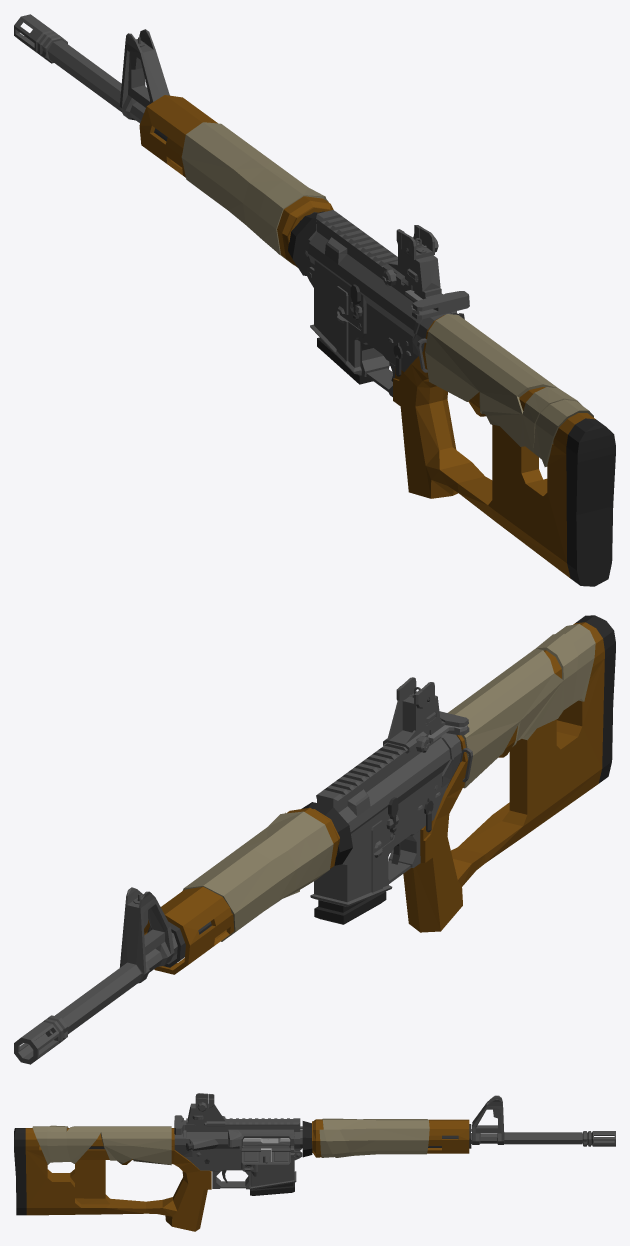
3 views of the same model, one above another, from view 1: azimuth 30°, elevation 25°; view 2: azimuth 150°, elevation 25°; view 3: azimuth 270°, elevation 25° (orthographic). The views are drawn at different scales.
Parts seen in each view (by area): view 1: main_10, Stock_1, wrap_0, rearsight_ColtA2_5, charging_handle_11, flash_hider_7; view 2: main_10, Stock_1, wrap_0, rearsight_ColtA2_5, flash_hider_7, Mag 10 rnd_2, charging_handle_11; view 3: main_10, Stock_1, wrap_0, rearsight_ColtA2_5, dustcover_3, flash_hider_7, Mag 10 rnd_2, Bolt_group_4, charging_handle_11.
Part boxes in pixels (box(x1,y1,x2,y2)): main_10: box(47, 29, 464, 396); Stock_1: box(393, 315, 615, 586); wrap_0: box(181, 122, 593, 466); rearsight_ColtA2_5: box(382, 225, 440, 291); charging_handle_11: box(405, 290, 469, 319); flash_hider_7: box(14, 14, 67, 63); main_10: box(45, 719, 472, 1036); Stock_1: box(403, 615, 615, 932); wrap_0: box(182, 624, 595, 941); rearsight_ColtA2_5: box(383, 677, 440, 753); flash_hider_7: box(14, 1015, 67, 1064); Mag 10 rnd_2: box(314, 891, 386, 924); charging_handle_11: box(428, 711, 469, 741); main_10: box(88, 1095, 582, 1189); Stock_1: box(14, 1128, 211, 1231); wrap_0: box(32, 1118, 429, 1165); rearsight_ColtA2_5: box(188, 1093, 225, 1126); dustcover_3: box(241, 1148, 290, 1164); flash_hider_7: box(583, 1131, 615, 1146); Mag 10 rnd_2: box(250, 1182, 294, 1195); Bolt_group_4: box(243, 1138, 290, 1145); charging_handle_11: box(174, 1115, 195, 1134).
Bounding box in the file's own units: 0.0618 × 0.2308 × 0.949.
